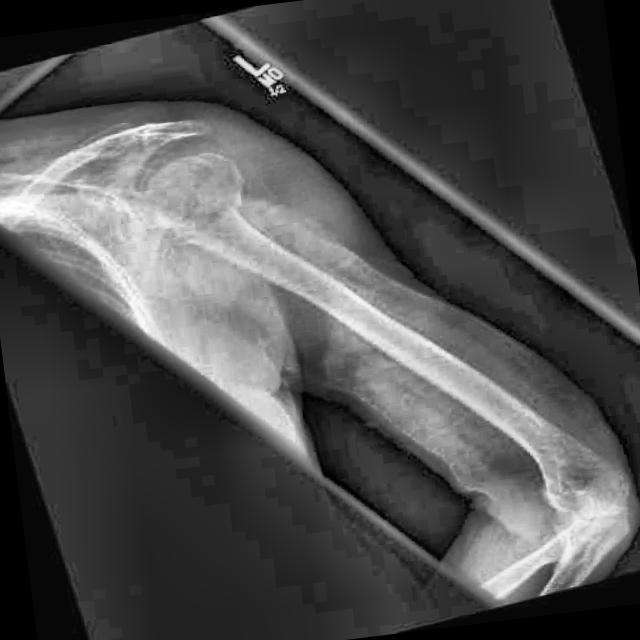humerus: (164, 137, 281, 223)
